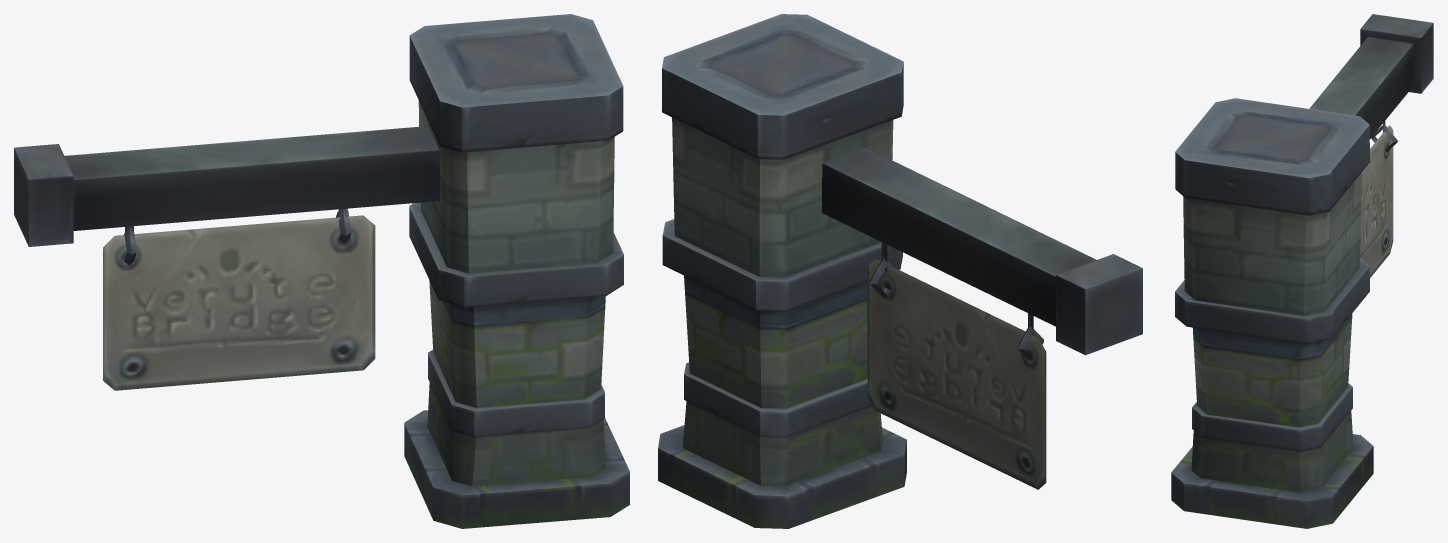
Rendered from scene_shenmisenlin_sz02.FBX.
The picture shows the model from 3 angles, left to right: view 1: azimuth 30°, elevation 25°; view 2: azimuth 150°, elevation 25°; view 3: azimuth 270°, elevation 25°; orthographic projection. The views are drawn at different scales.
Visible parts, largest first — view 1: scene_shenmisenlin_sz02; view 2: scene_shenmisenlin_sz02; view 3: scene_shenmisenlin_sz02.
Boxes of the visible parts, x1,y1,x2,y2 form: scene_shenmisenlin_sz02: (14, 14, 629, 528); scene_shenmisenlin_sz02: (658, 14, 1142, 528); scene_shenmisenlin_sz02: (1171, 14, 1433, 528).
Bounding box in the file's own units: 265 × 200 × 137.
